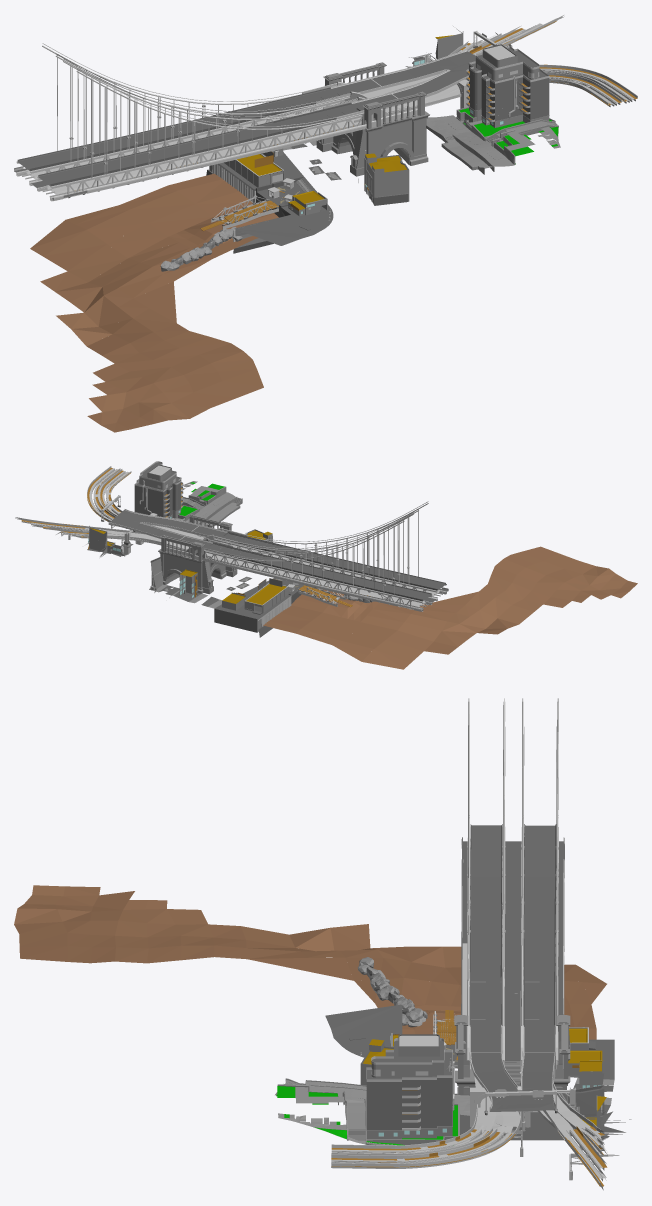
File: brook_n_13.FBX
3 views of the same model, one above another, from view 1: azimuth 30°, elevation 25°; view 2: azimuth 150°, elevation 25°; view 3: azimuth 270°, elevation 25° (orthographic). The views are drawn at different scales.
Visible parts, largest first — view 1: unnamed, null; view 2: unnamed, null; view 3: unnamed, null.
Boxes of the visible parts, box(x1,y1,x2,y2) form: unnamed: box(14, 26, 637, 432); null: box(405, 15, 574, 93); unnamed: box(85, 461, 637, 669); null: box(15, 497, 151, 557); unnamed: box(14, 698, 631, 1168); null: box(445, 1088, 625, 1190).
Size of the model in its own units: 420 by 127 by 261.
